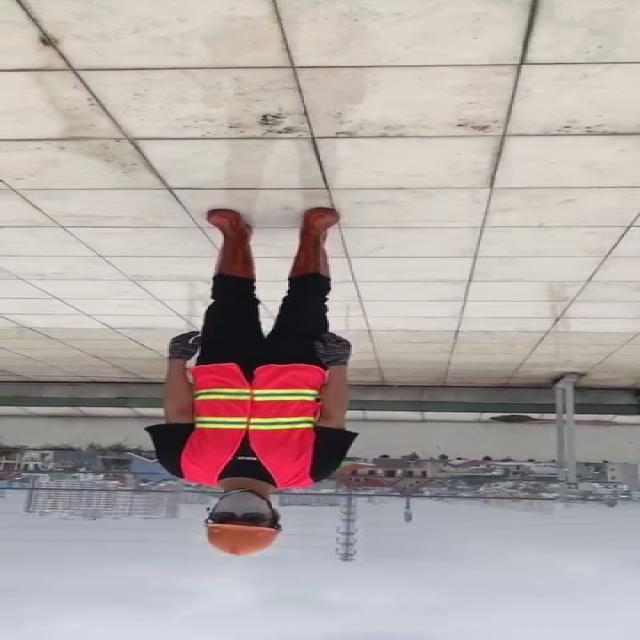Boots: (283, 207, 345, 279), (208, 209, 258, 277)
Gloves: (163, 327, 204, 361), (314, 331, 354, 363)
Helmet: (200, 522, 282, 558)
Vest: (176, 363, 327, 488)
